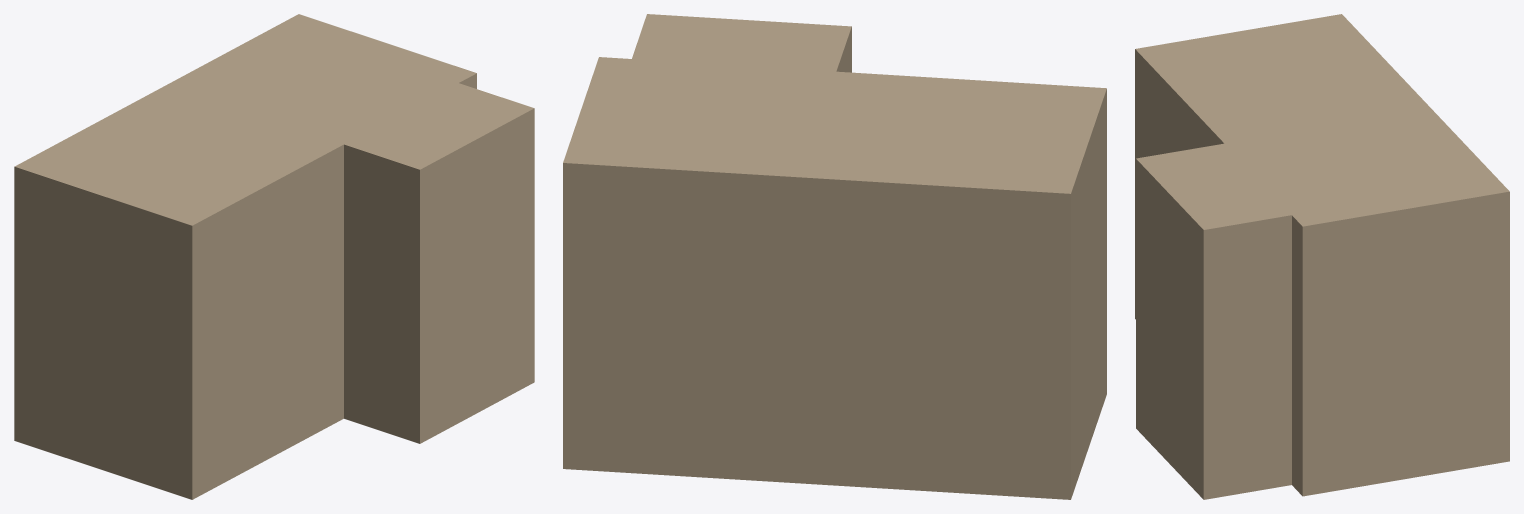
The model's file is bld_106796803.dae.
3 renders of one model, left to right at view 1: azimuth 30°, elevation 25°; view 2: azimuth 150°, elevation 25°; view 3: azimuth 270°, elevation 25°, orthographic. The views are drawn at different scales.
Parts seen in each view (by area): view 1: bld_106796803; view 2: bld_106796803; view 3: bld_106796803.
Boxes of the visible parts, x1,y1,x2,y2 form: bld_106796803: [14, 14, 534, 499]; bld_106796803: [563, 14, 1106, 499]; bld_106796803: [1135, 14, 1509, 499].
Bounding box in the file's own units: 13.74 × 10.07 × 8.
